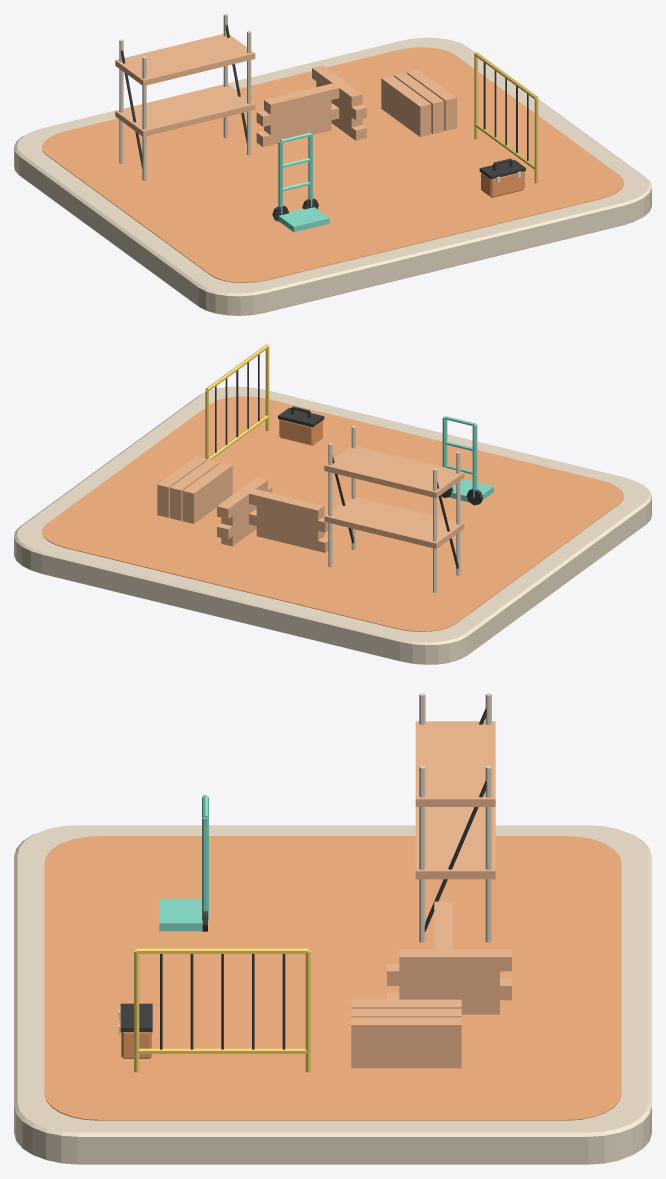
3 views of the same model, one above another, from view 1: azimuth 30°, elevation 25°; view 2: azimuth 150°, elevation 25°; view 3: azimuth 270°, elevation 25° (orthographic). The views are drawn at different scales.
Visible parts, largest first — view 1: COM-02 Floor Surface, COM-01 Rounded Base Direct, Platform.001, Platform, Timber.006, Loading plate, Box, Timber.007, Timber.008, Upright.002, Upright, Timber (+3 smaller); view 2: COM-02 Floor Surface, COM-01 Rounded Base Direct, Platform.001, Platform, Timber.006, Box, Timber.007, Timber.008, Upright.003, Upright.001, Timber.003, Timber (+3 smaller); view 3: COM-02 Floor Surface, COM-01 Rounded Base Direct, Platform.001, Platform, Timber.008, Timber.002, Timber.005, Loading plate, Timber.006, Timber.007, Upright.002, Upright.003 (+9 smaller).
Boxes of the visible parts, x1,y1,x2,y2 form: COM-02 Floor Surface: (42,47,623,282); COM-01 Rounded Base Direct: (14,37,651,315); Platform.001: (115,34,255,85); Platform: (115,84,255,136); Timber.006: (381,75,431,116); Loading plate: (278,207,329,232); Box: (481,171,524,197); Timber.007: (394,72,444,113); Timber.008: (407,69,456,110); Upright.002: (247,31,251,155); Upright: (142,56,146,180); Timber: (381,99,431,137); COM-02 Floor Surface: (42,396,623,631); COM-01 Rounded Base Direct: (14,386,651,664); Platform.001: (324,446,464,498); Platform: (324,496,464,548); Timber.006: (182,462,232,503); Box: (279,419,322,445); Timber.007: (170,459,219,500); Timber.008: (157,456,207,497); Upright.003: (328,443,332,567); Upright.001: (433,468,437,592); Timber.003: (182,475,232,513); Timber: (182,486,232,523); COM-02 Floor Surface: (44,836,621,1120); COM-01 Rounded Base Direct: (14,825,651,1164); Platform.001: (415,721,495,806); Platform: (415,807,495,879); Timber.008: (351,1017,461,1039); Timber.002: (351,1054,461,1068); Timber.005: (351,1039,461,1053); Loading plate: (159,898,202,931); Timber.006: (351,999,461,1008); Timber.007: (351,1008,461,1017); Upright.002: (419,766,425,942); Upright.003: (485,766,491,942).
Size of the model in its own units: 6 by 1.87 by 5.2.
Materials: 1 (1 with a texture image).
